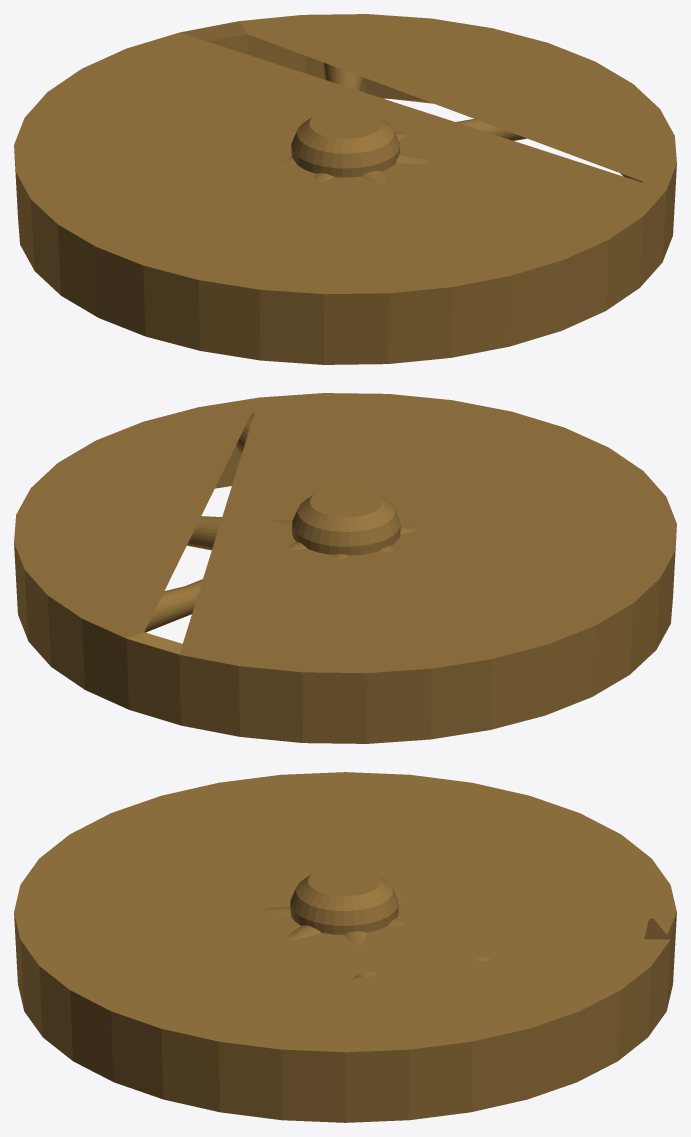
The model's file is wagon_wheel.fbx.
3 renders of one model, top to bottom at view 1: azimuth 30°, elevation 25°; view 2: azimuth 150°, elevation 25°; view 3: azimuth 270°, elevation 25°, orthographic.
Parts seen in each view (by area): view 1: Circle; view 2: Circle; view 3: Circle.
Part boxes in pixels (box(x1,y1,x2,y2)): Circle: box(14, 14, 676, 364); Circle: box(14, 393, 676, 743); Circle: box(14, 772, 676, 1122).
Bounding box in the file's own units: 1063 × 183 × 1063.
